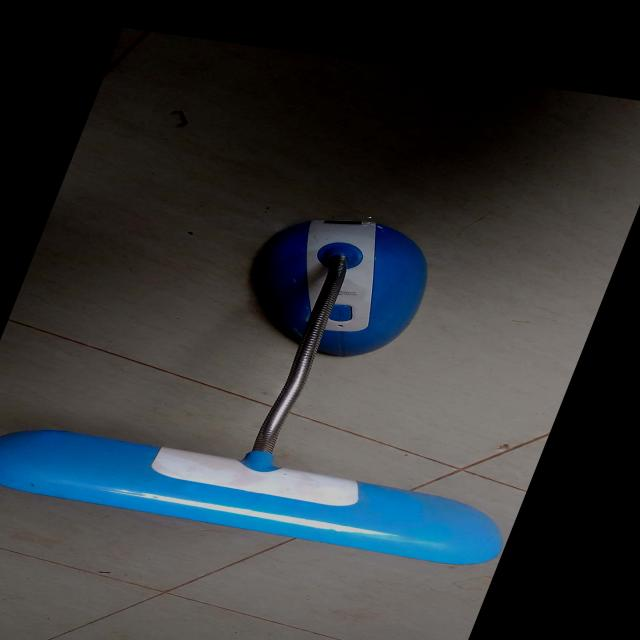Lantern: (0, 174, 621, 577)
